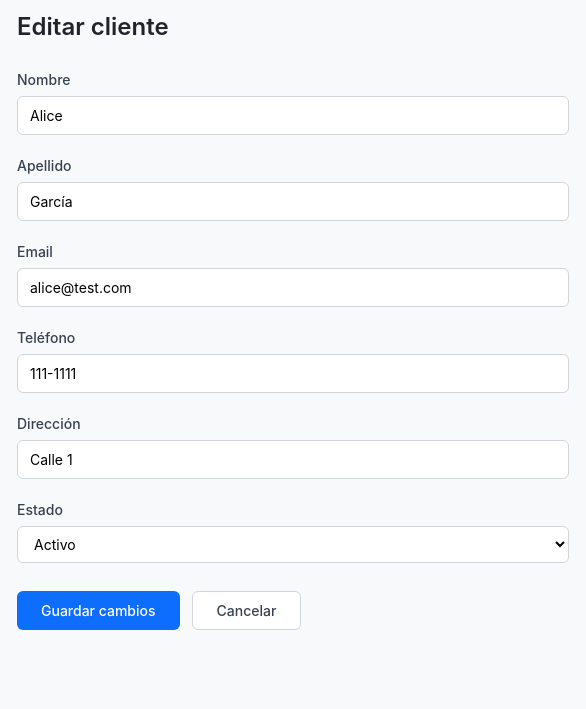
Test: EditCustomerPage › shows error message on failure
The width and height of the screenshot is (586, 709).
Click the button "Guardar cambios": (98,610) top-left (17, 591), bottom-right (180, 630)
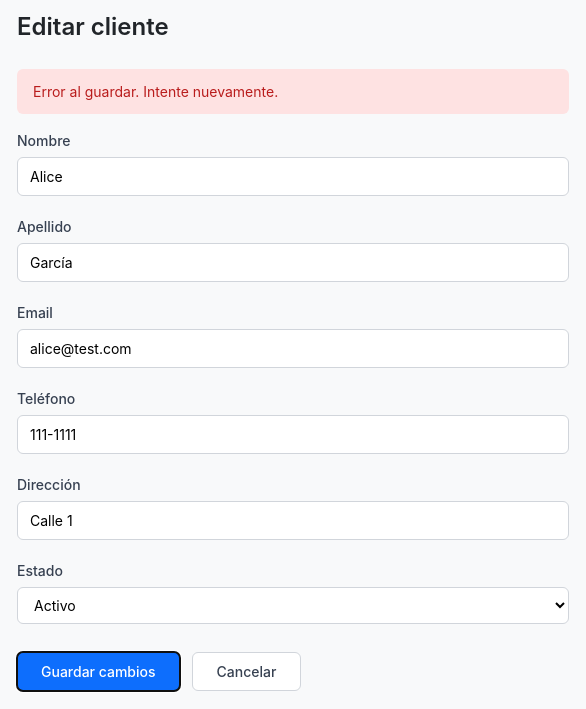
Expected: the text "Error al guardar. Intente nuevamente." is shown, top-left (17, 69), bottom-right (569, 114)
